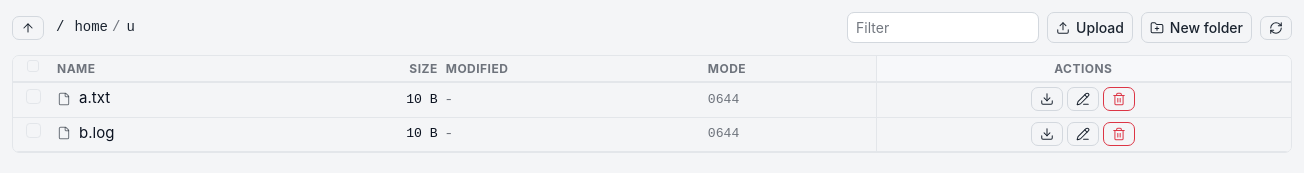
Test case: FilesPane › filters rows and says when nothing matches
Expected: the navigation bar named "Current folder" is shown, [52,15,139,40]
Expected: the text "a.txt" is shown, [79,87,110,110]
In the field named "Filter files": (943, 28) [847,12,1039,43], type "LOG"
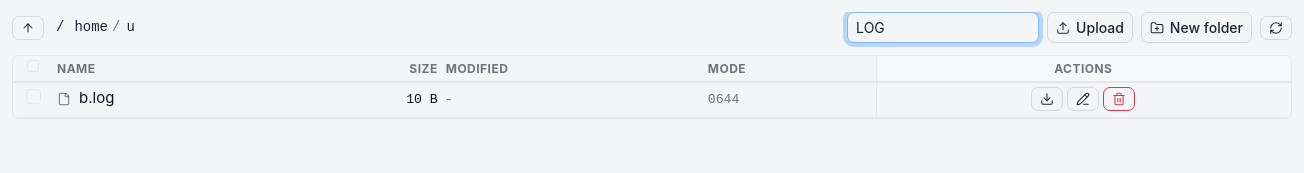
Expected: the text "b.log" is shown, [79,87,114,110]
Result: the text "a.txt" is gone
In the field named "Filter files": (943, 28) [847,12,1039,43], type "zzz"
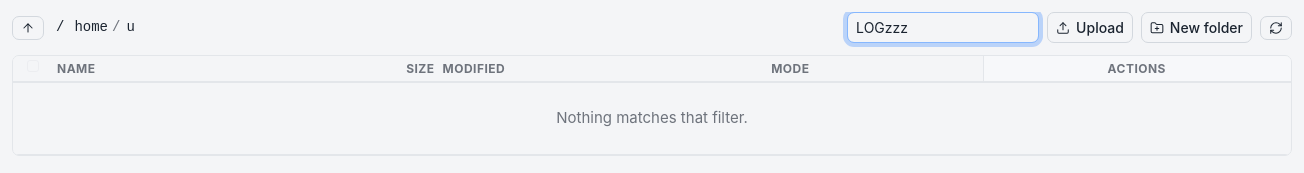
Result: the text "Nothing matches that filter." is shown at [13,82,1291,154]
